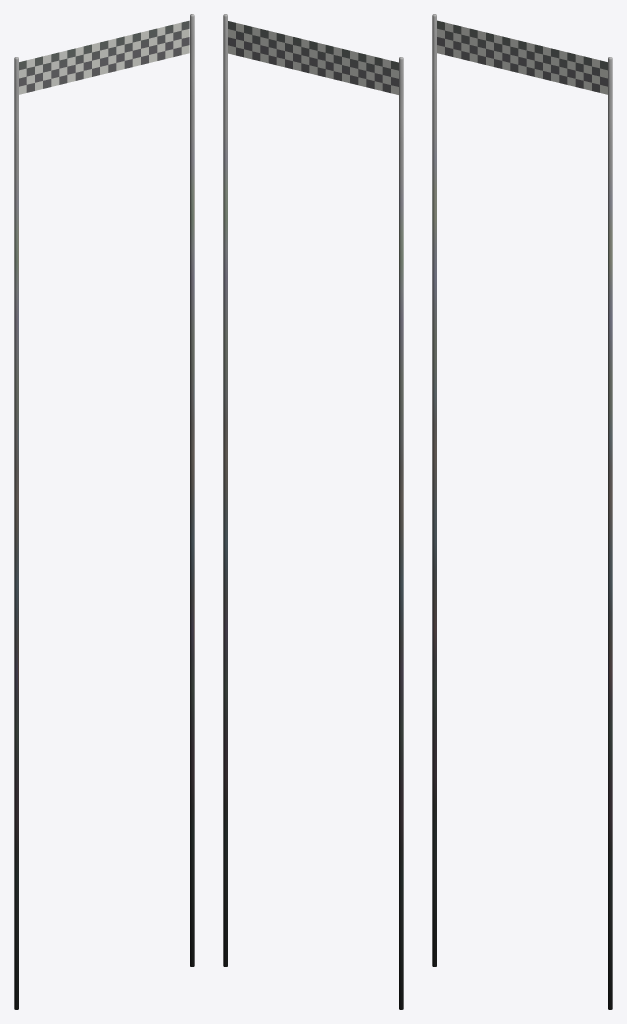
File: Finish_line.glb
3 views of the same model, side by side, from view 1: azimuth 30°, elevation 25°; view 2: azimuth 150°, elevation 25°; view 3: azimuth 330°, elevation 25° (orthographic).
Parts seen in each view (by area): view 1: Plane001; view 2: Plane001; view 3: Plane001.
Boxes of the visible parts, left/top/right/bottom form: Plane001: left=14, top=14, right=194, bottom=1009; Plane001: left=223, top=14, right=403, bottom=1009; Plane001: left=432, top=14, right=612, bottom=1009.
Bounding box in the file's own units: 12.44 × 62.92 × 0.2921.
Materials: 1 (1 with a texture image).
